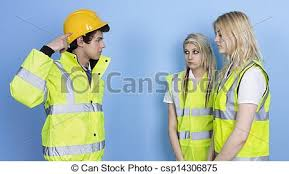Person_wearing_helmet: (54, 2, 110, 47)
